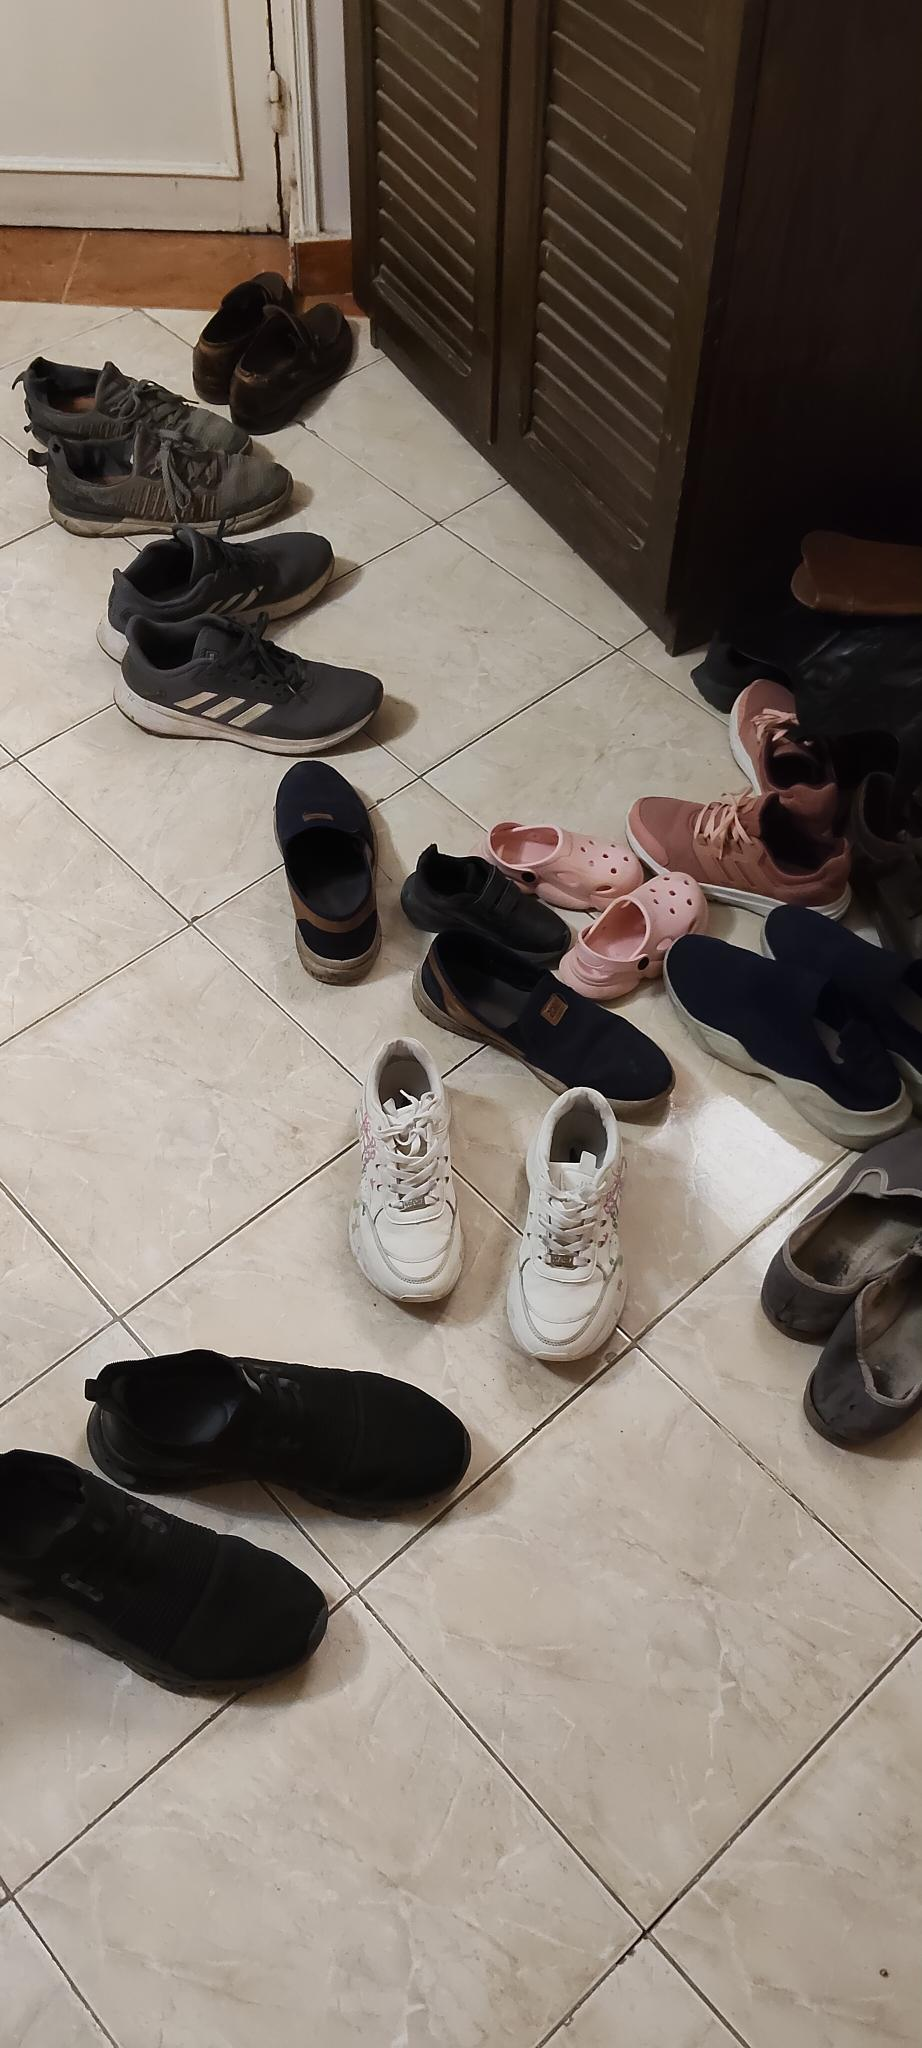Shoes: (0, 1454, 328, 1697), (82, 1348, 470, 1524), (669, 931, 918, 1151), (411, 922, 675, 1116), (113, 612, 387, 754), (763, 1119, 922, 1344), (501, 1086, 627, 1362), (97, 525, 336, 666), (627, 787, 860, 922), (351, 1040, 465, 1304), (50, 424, 296, 539), (759, 904, 922, 1069), (806, 1236, 922, 1447), (275, 762, 382, 982), (17, 359, 253, 457), (398, 844, 572, 969), (563, 870, 709, 999), (228, 302, 358, 427), (482, 820, 646, 914), (192, 274, 301, 399), (727, 679, 820, 797)
